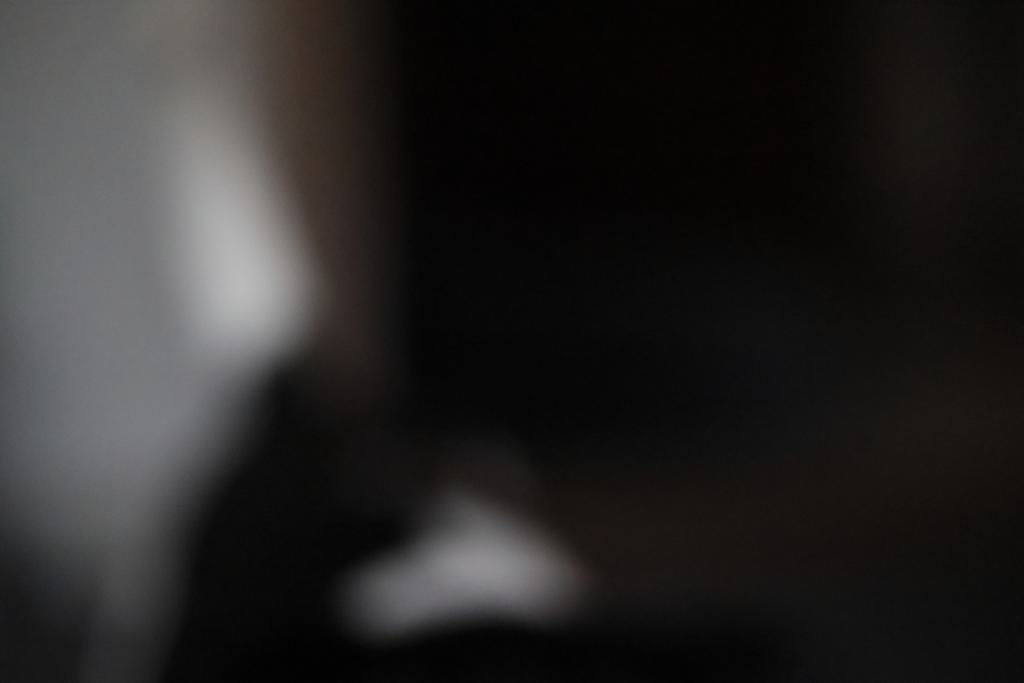Dog: (47, 26, 690, 683)
